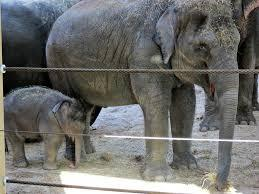elephant: (3, 71, 256, 168), (2, 0, 258, 69), (145, 140, 167, 179), (218, 142, 230, 189)
